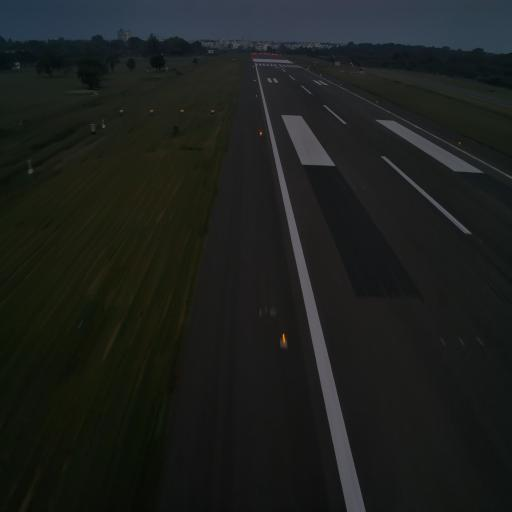off: (437, 331, 448, 350), (476, 333, 486, 349), (458, 335, 468, 349), (343, 183, 347, 192), (354, 184, 358, 191), (362, 184, 366, 190), (364, 136, 367, 142), (348, 122, 350, 128)
on: (279, 330, 288, 354), (457, 138, 463, 148), (258, 130, 264, 140)
